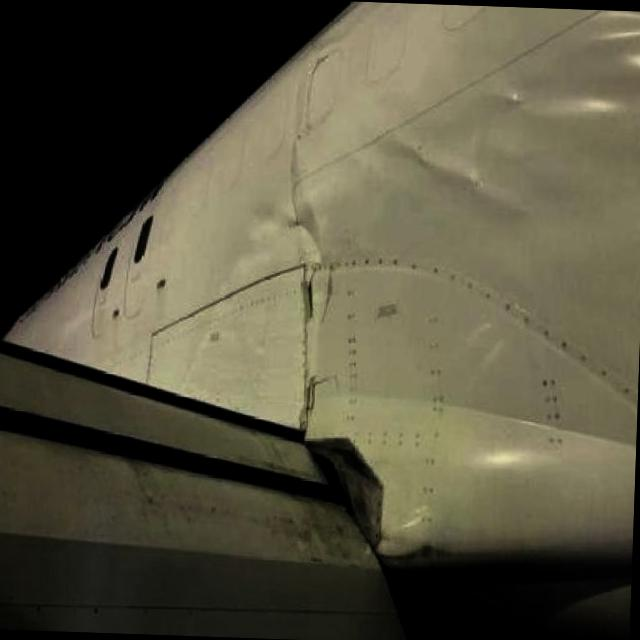dent: (379, 124, 505, 205), (245, 166, 332, 278), (494, 77, 620, 120), (575, 13, 640, 73), (475, 418, 546, 466)
